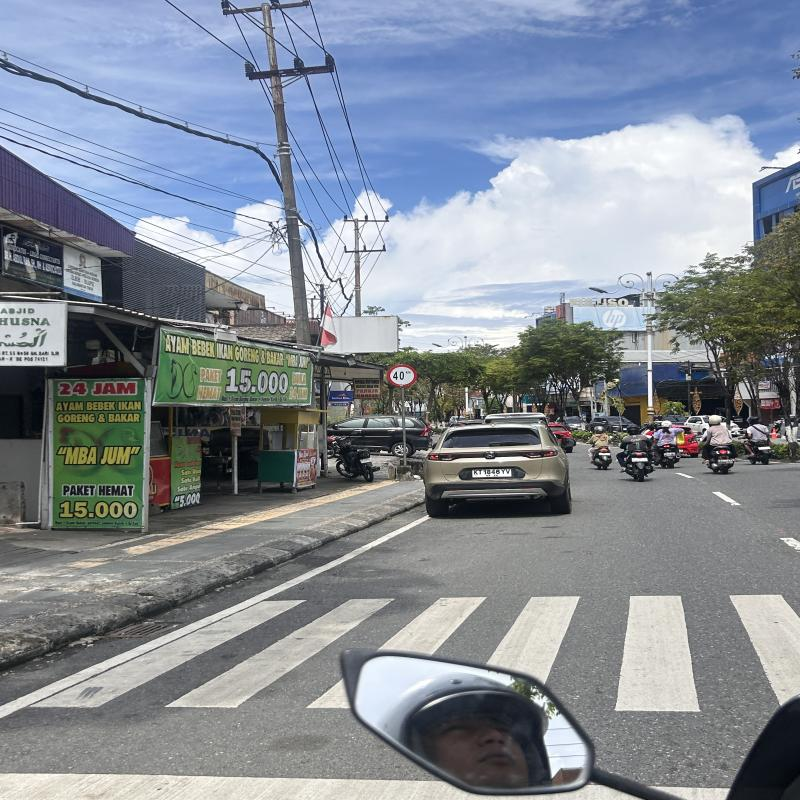license plate on a car: (472, 468, 512, 477)
